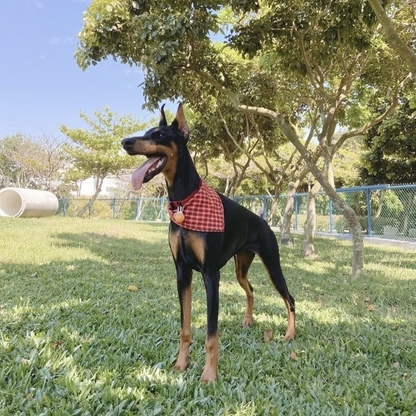doberman: (115, 101, 306, 385)
